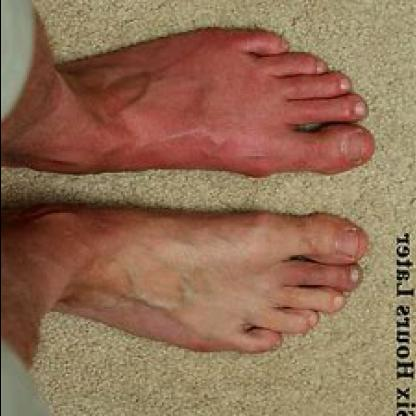Wasp: (90, 96, 309, 174)
